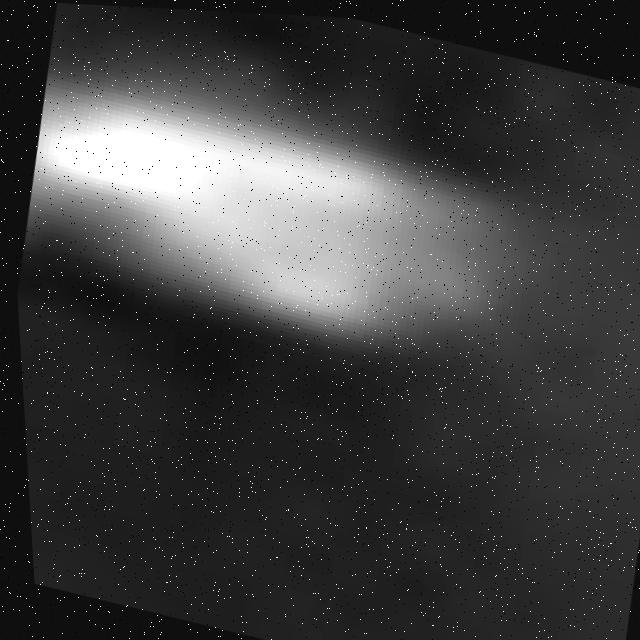person: (3, 34, 586, 434)
